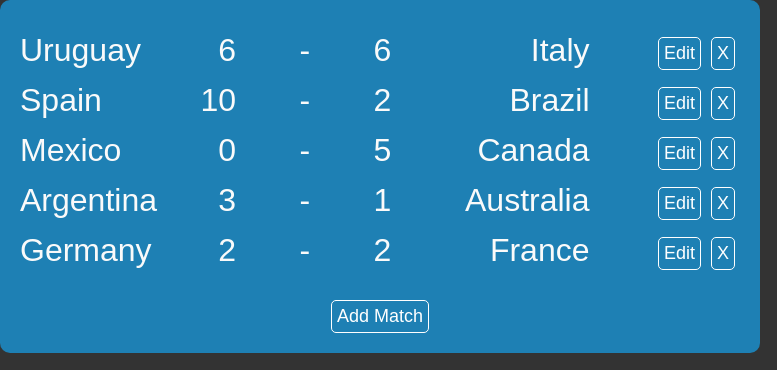
Test: Scoreboard › should remove a match from the scoreboard
Click the button "X" in the row of "Italy" at (723,54), box [711,37,735,70]
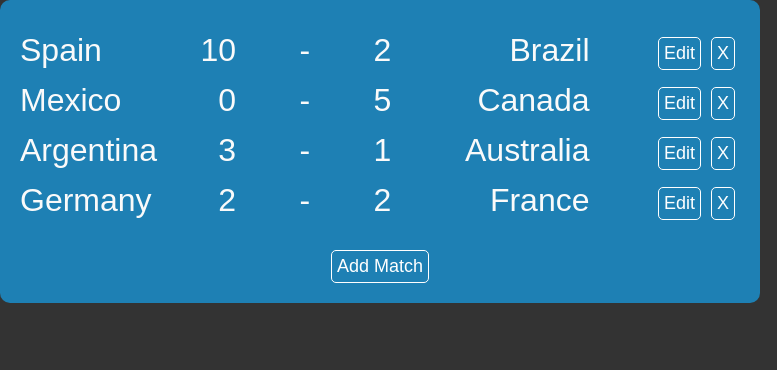
Result: the text "Uruguay" is gone
Result: the number of elements with test id "scoreboard-item" is 4 at [20,30,740,70]; [20,80,740,120]; [20,130,740,170]; [20,180,740,220]
